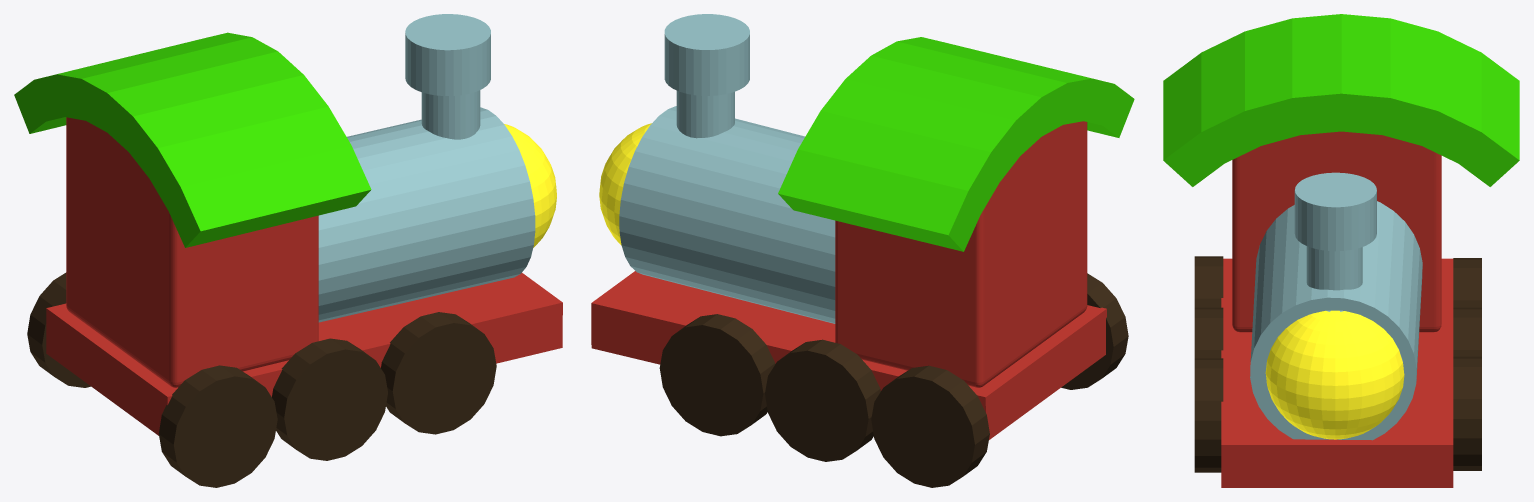
Rendered from Tren.fbx.
3 views of the same model, side by side, from view 1: azimuth 30°, elevation 25°; view 2: azimuth 150°, elevation 25°; view 3: azimuth 270°, elevation 25° (orthographic). The views are drawn at different scales.
Parts seen in each view (by area): view 1: Cilindro, Círculo, Cubo, Cube, Cilindro.002, Cilindro.003, Cilindro.001, Cilindro.006; view 2: Círculo, Cilindro, Cubo, Cube, Cilindro.006, Cilindro.005, Cilindro.004, Cilindro.002; view 3: Círculo, Cilindro, Cube, Cubo, Cilindro.004, Cilindro.001, Cilindro.002, Cilindro.003, Cilindro.005, Cilindro.006.
Part boxes in pixels (<box>): Cilindro: <box>318,14,556,322</box>; Círculo: <box>14,32,371,247</box>; Cubo: <box>66,117,318,387</box>; Cube: <box>46,273,562,435</box>; Cilindro.002: <box>158,365,277,487</box>; Cilindro.003: <box>272,338,387,460</box>; Cilindro.001: <box>381,312,496,434</box>; Cilindro.006: <box>27,272,90,387</box>; Círculo: <box>778,37,1134,251</box>; Cilindro: <box>599,14,835,323</box>; Cubo: <box>835,121,1087,387</box>; Cube: <box>591,271,1106,439</box>; Cilindro.006: <box>871,365,989,487</box>; Cilindro.005: <box>765,339,880,461</box>; Cilindro.004: <box>659,314,775,436</box>; Cilindro.002: <box>1061,273,1128,389</box>; Círculo: <box>1163,14,1519,186</box>; Cilindro: <box>1250,172,1422,440</box>; Cube: <box>1221,258,1453,487</box>; Cubo: <box>1232,131,1441,332</box>; Cilindro.004: <box>1453,356,1481,470</box>; Cilindro.001: <box>1194,358,1223,472</box>; Cilindro.002: <box>1194,256,1223,307</box>; Cilindro.003: <box>1194,307,1223,358</box>; Cilindro.005: <box>1453,307,1481,356</box>; Cilindro.006: <box>1453,258,1481,307</box>.
Size of the model in its own units: 2137 by 1583 by 1544.
